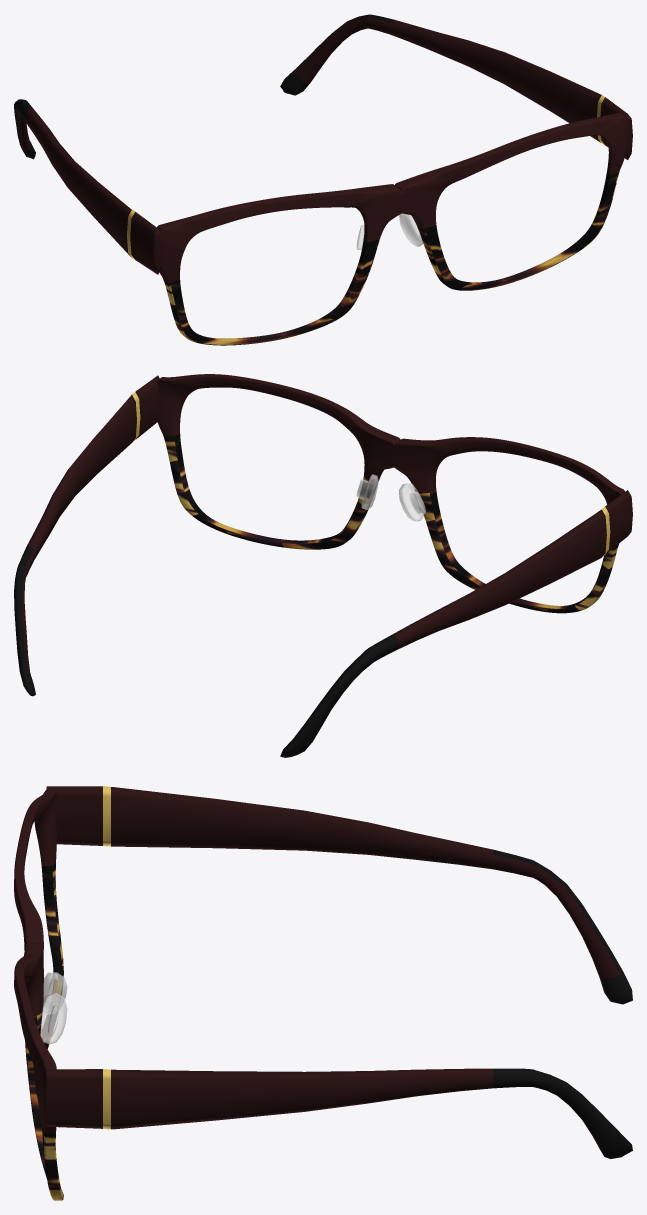
File: glasses-10.glb
3 views of the same model, one above another, from view 1: azimuth 30°, elevation 25°; view 2: azimuth 150°, elevation 25°; view 3: azimuth 270°, elevation 25° (orthographic). The views are drawn at different scales.
Parts seen in each view (by area): view 1: Cylinder, Cube, Cylinder.001; view 2: Cube, Cylinder, Cylinder.001; view 3: Cube, Cylinder, Cylinder.001.
Boxes of the visible parts, left/top/right/bottom form: Cylinder: left=157, top=113, right=627, bottom=345; Cube: left=14, top=14, right=632, bottom=274; Cylinder.001: left=356, top=213, right=423, bottom=250; Cube: left=14, top=375, right=632, bottom=757; Cylinder: left=156, top=374, right=624, bottom=613; Cylinder.001: left=356, top=474, right=425, bottom=521; Cube: left=45, top=786, right=632, bottom=1158; Cylinder: left=14, top=790, right=63, bottom=1200; Cylinder.001: left=40, top=972, right=67, bottom=1044.
Size of the model in its own units: 4.24 by 1.27 by 3.83.
6 materials, 1 textured.
